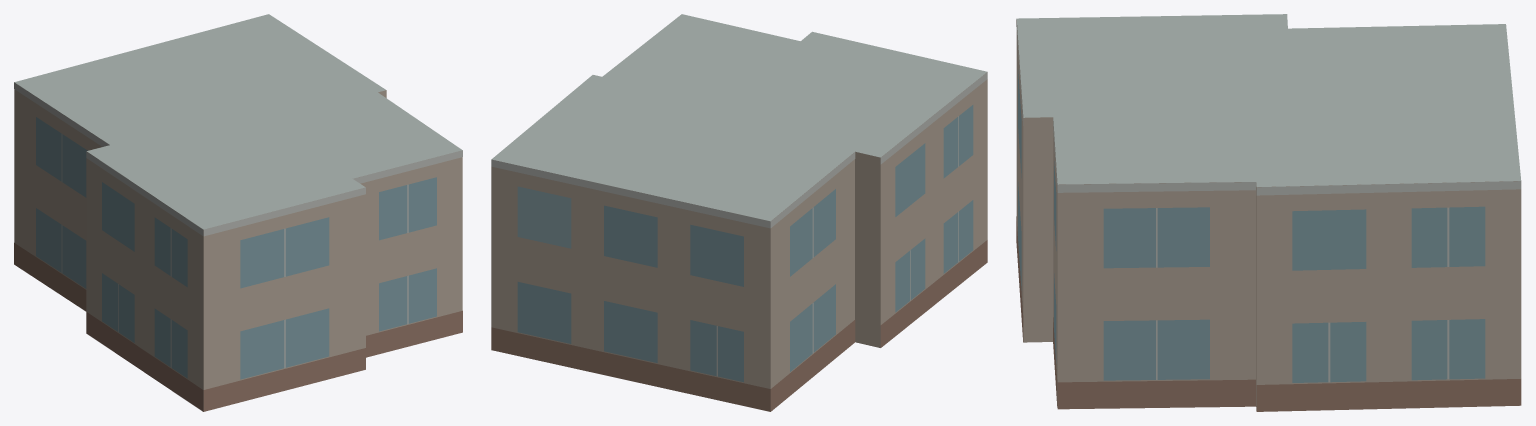
File: survey-upis-32663417.glb
3 renders of one model, left to right at view 1: azimuth 30°, elevation 25°; view 2: azimuth 150°, elevation 25°; view 3: azimuth 270°, elevation 25°, orthographic. The views are drawn at different scales.
Parts seen in each view (by area): view 1: survey-upis-32663417.tmp; view 2: survey-upis-32663417.tmp; view 3: survey-upis-32663417.tmp.
Part boxes in pixels (x1,y1,x2,y2): survey-upis-32663417.tmp: [14, 14, 462, 411]; survey-upis-32663417.tmp: [491, 14, 987, 411]; survey-upis-32663417.tmp: [1016, 14, 1521, 411].
Bounding box in the file's own units: 10.75 × 6.5 × 13.24.
